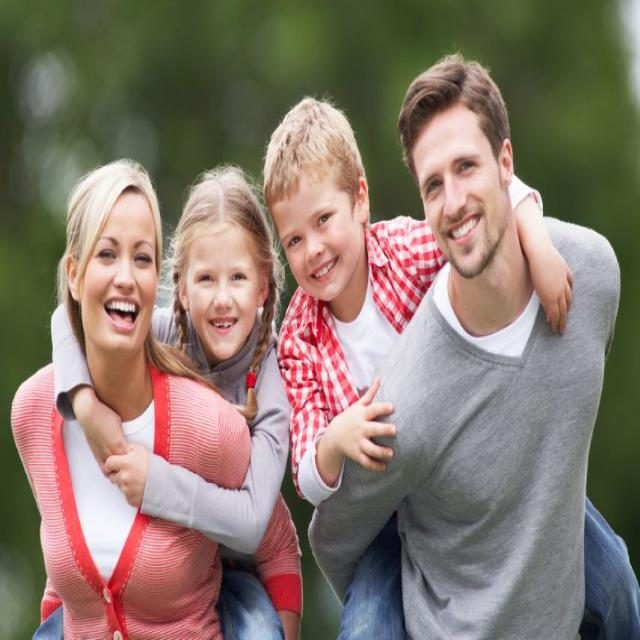adult: (307, 55, 621, 640), (10, 157, 302, 640)
child: (263, 94, 578, 504), (50, 164, 290, 554)
